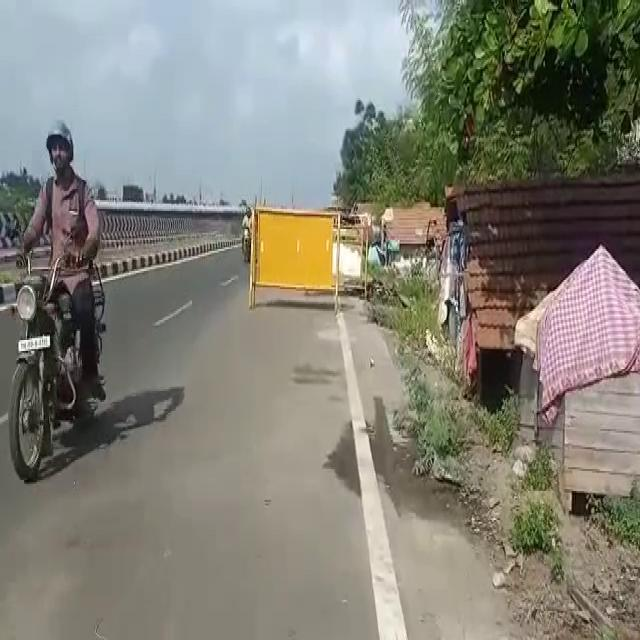fallen_object: (240, 195, 360, 324)
